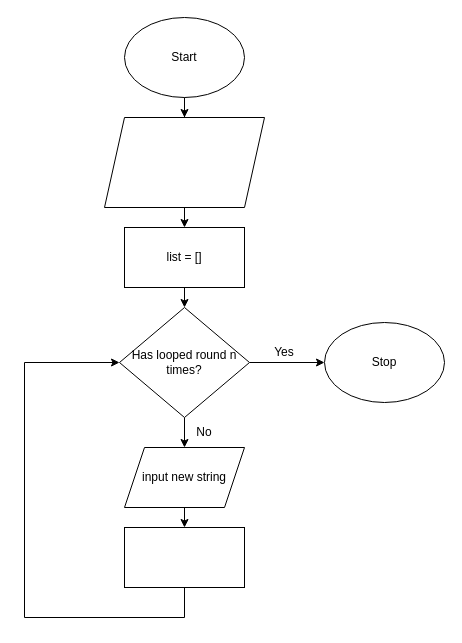
The diagram is 462 pixels wide and 643 high, and some of its shapes have lost their labels. Each missing label, with the centre of its shape:
"append new item to list" goes at (184,557).
"n = input amount of strings" goes at (184,162).
